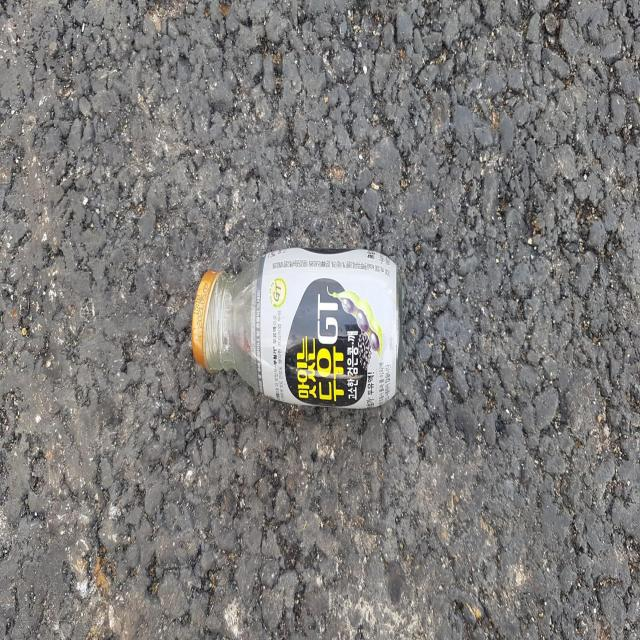glass: (191, 247, 402, 407)
